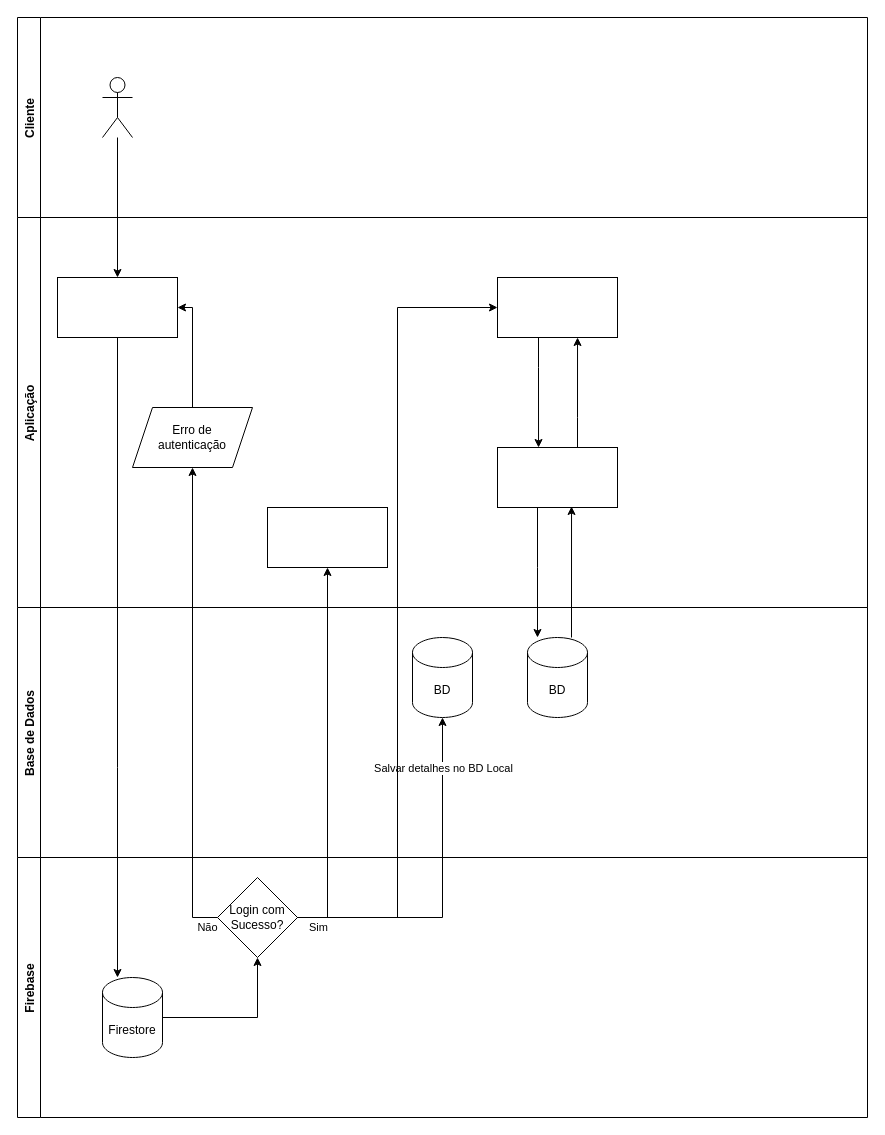
The diagram is 885 pixels wide and 1135 high, and some of its shapes have lost their labels. The centre of each missing label's shape, as x and y in pixels:
Login: pixel 117 307
Reperar "uid": pixel 557 477
Salvar "uid" no sharedpreferences: pixel 327 537
Tela Inicial: pixel 557 307
Usuário: pixel 117 107
